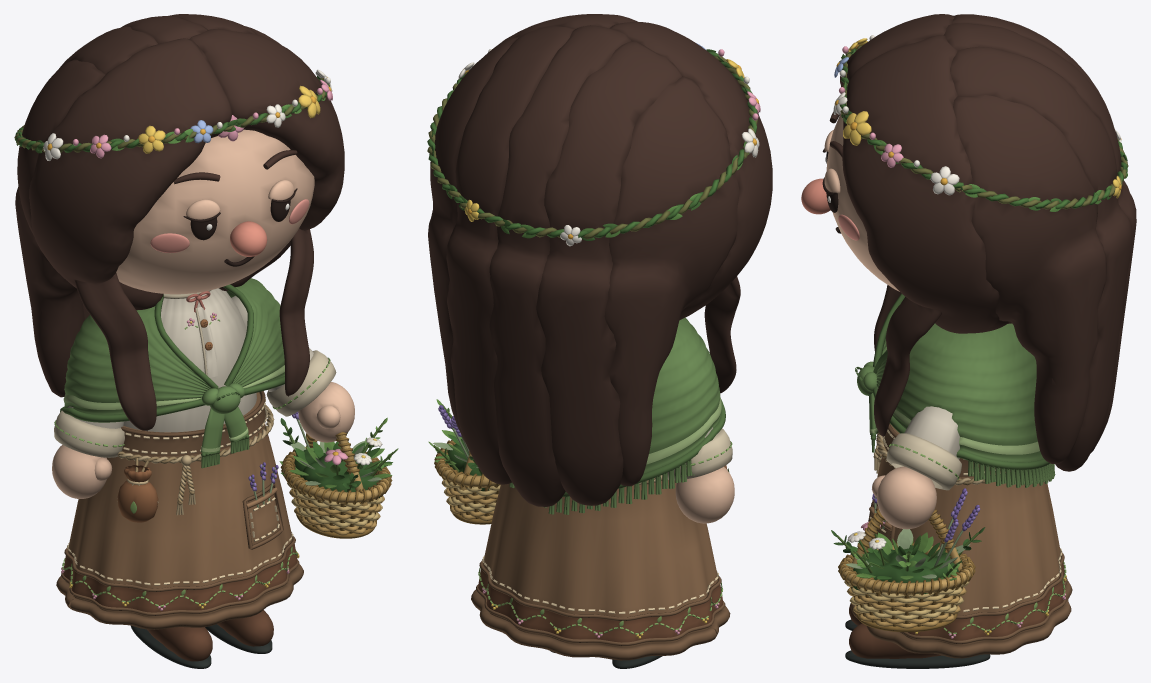
Rendered from herbalist.glb.
3 renders of one model, left to right at view 1: azimuth 30°, elevation 25°; view 2: azimuth 150°, elevation 25°; view 3: azimuth 270°, elevation 25°, orthographic. The views are drawn at different scales.
Visible parts, largest first — view 1: head, body, basket, arm_r, arm_l, leg_r, leg_l; view 2: head, body, basket, arm_r; view 3: head, body, basket, arm_l, leg_l.
Part boxes in pixels (x1,y1,x2,y2): head: (14,14,344,431); body: (56,278,303,629); basket: (279,412,398,538); arm_r: (52,406,124,498); arm_l: (231,296,354,442); leg_r: (131,625,212,668); leg_l: (205,610,273,653); head: (427,14,772,506); body: (471,317,730,660); basket: (428,399,500,524); arm_r: (667,427,734,523); head: (801,14,1136,471); body: (850,293,1072,658); basket: (831,488,985,632); arm_l: (872,406,961,529); leg_l: (845,623,990,668).
Size of the model in its own units: 0.8032 by 1.39 by 0.6899.
